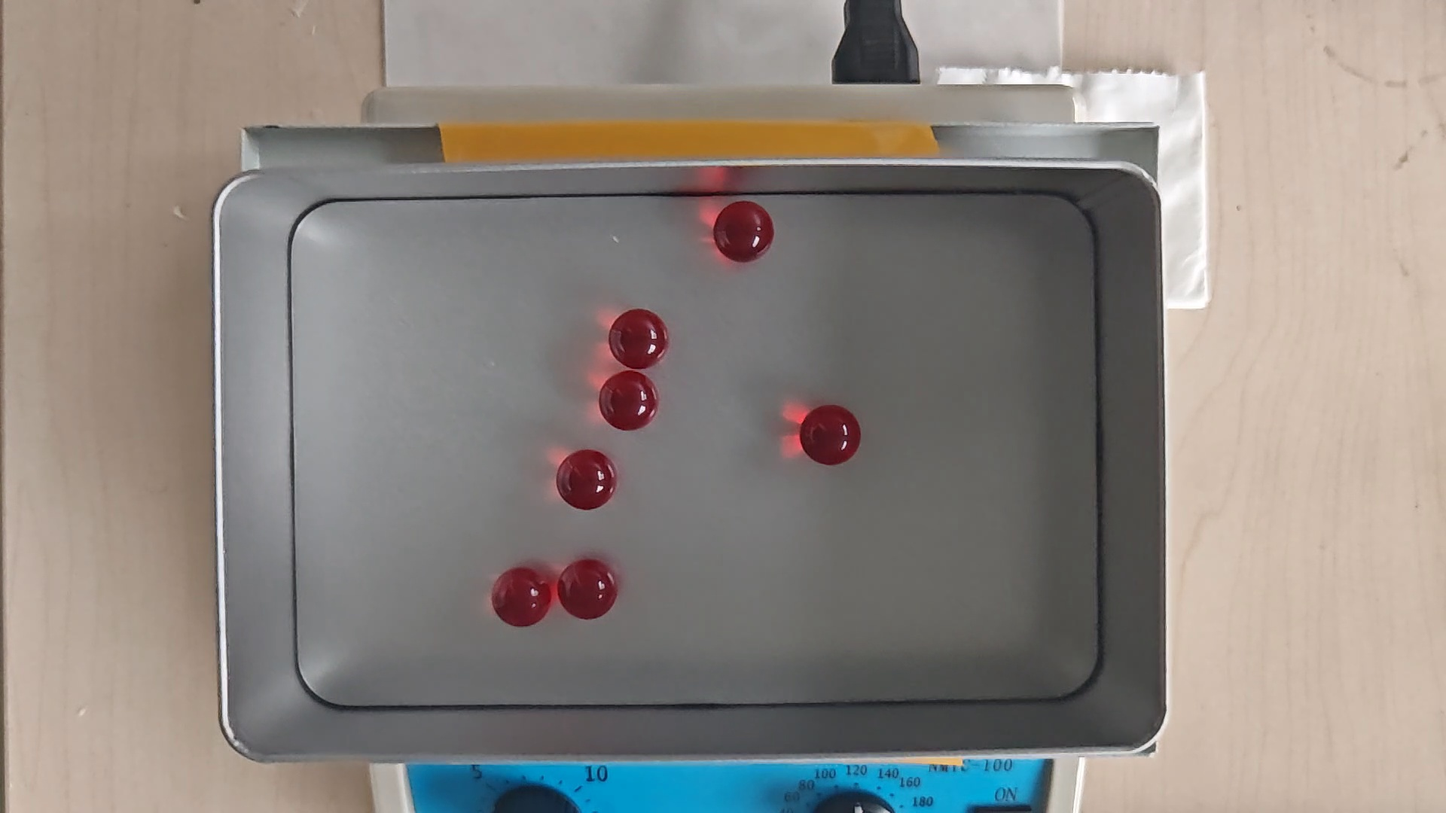ball: (556, 448, 618, 511), (714, 200, 775, 262), (609, 309, 669, 370), (557, 560, 618, 620), (803, 404, 861, 466), (600, 372, 660, 431), (494, 567, 550, 629)
container: (285, 193, 1100, 704)
